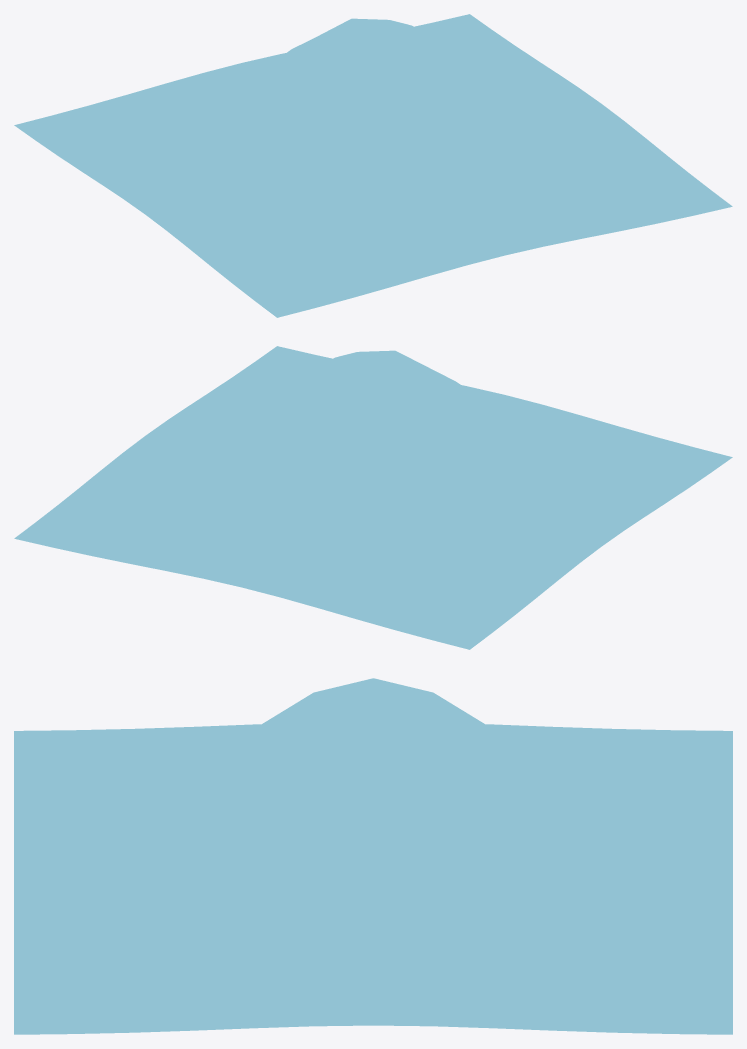
File: morph.glb
3 renders of one model, top to bottom at view 1: azimuth 30°, elevation 25°; view 2: azimuth 150°, elevation 25°; view 3: azimuth 270°, elevation 25°, orthographic. The views are drawn at different scales.
Visible parts, largest first — view 1: blob; view 2: blob; view 3: blob.
Part boxes in pixels (x1=…): blob: x1=14, y1=14, x2=732, y2=317; blob: x1=14, y1=346, x2=732, y2=649; blob: x1=14, y1=678, x2=732, y2=1034.
Size of the model in its own units: 2 by 0.5985 by 2.
